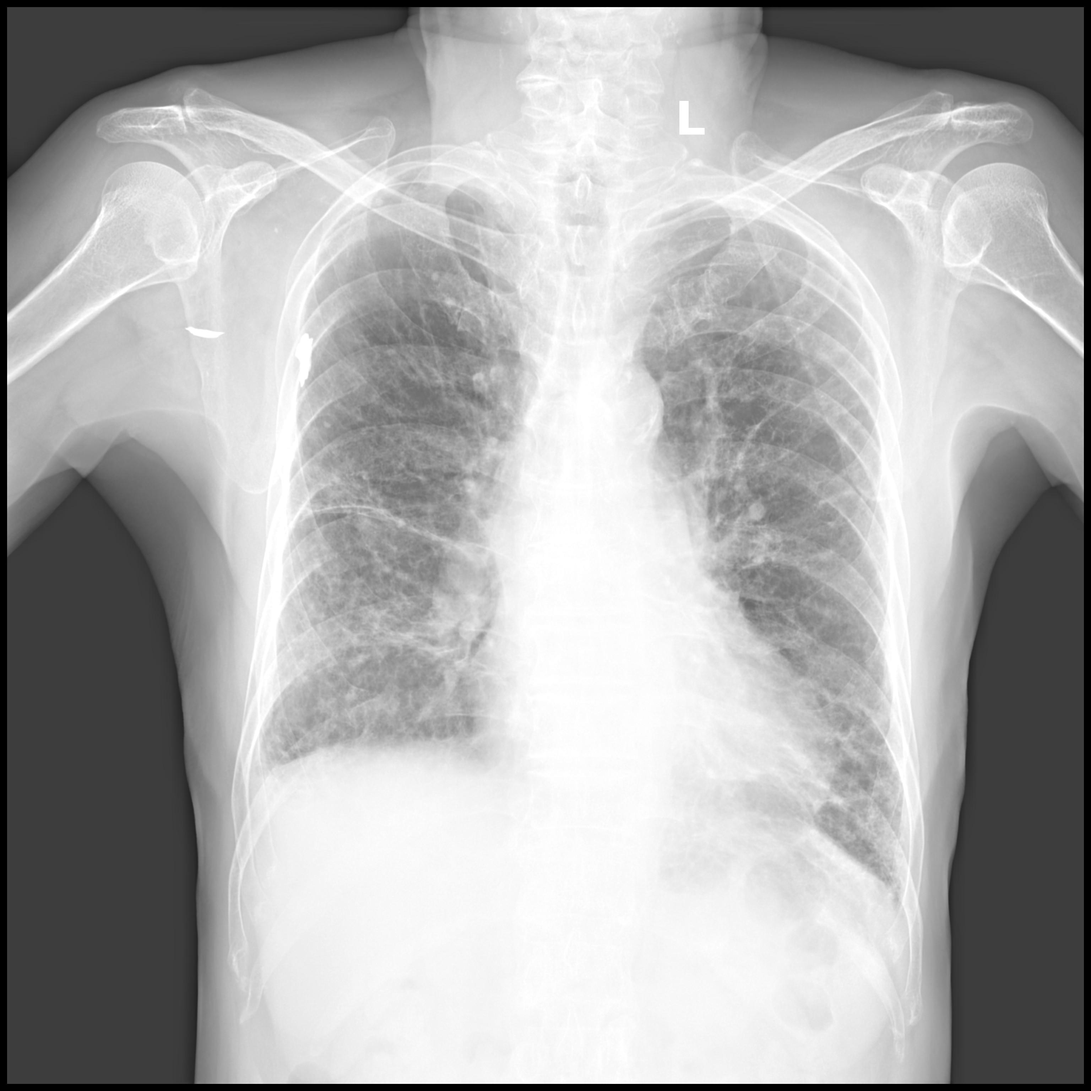Cardiomegaly: (471, 632, 837, 818)
Pleural thickening: (244, 733, 284, 801)
Pulmonary fibrosis: (641, 234, 896, 887), (267, 227, 533, 749)
